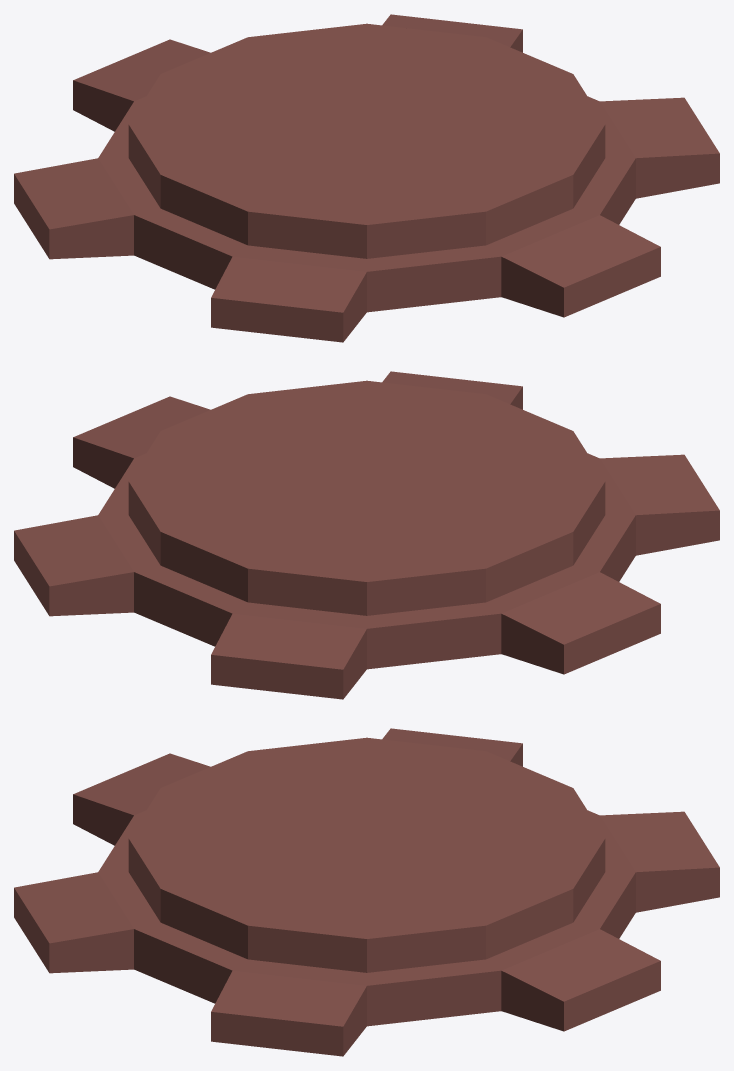
File: TeleporterBase.glb
3 renders of one model, top to bottom at view 1: azimuth 30°, elevation 25°; view 2: azimuth 150°, elevation 25°; view 3: azimuth 270°, elevation 25°, orthographic.
Visible parts, largest first — view 1: Teleporter1.001, Teleporter1; view 2: Teleporter1.001, Teleporter1; view 3: Teleporter1.001, Teleporter1.
Boxes of the visible parts, x1,y1,x2,y2 form: Teleporter1.001: (128,23,605,258); Teleporter1: (14,14,719,342); Teleporter1.001: (128,380,605,615); Teleporter1: (14,371,719,699); Teleporter1.001: (128,737,605,972); Teleporter1: (14,728,719,1056).
Size of the model in its own units: 1.38 by 0.1599 by 1.38.
